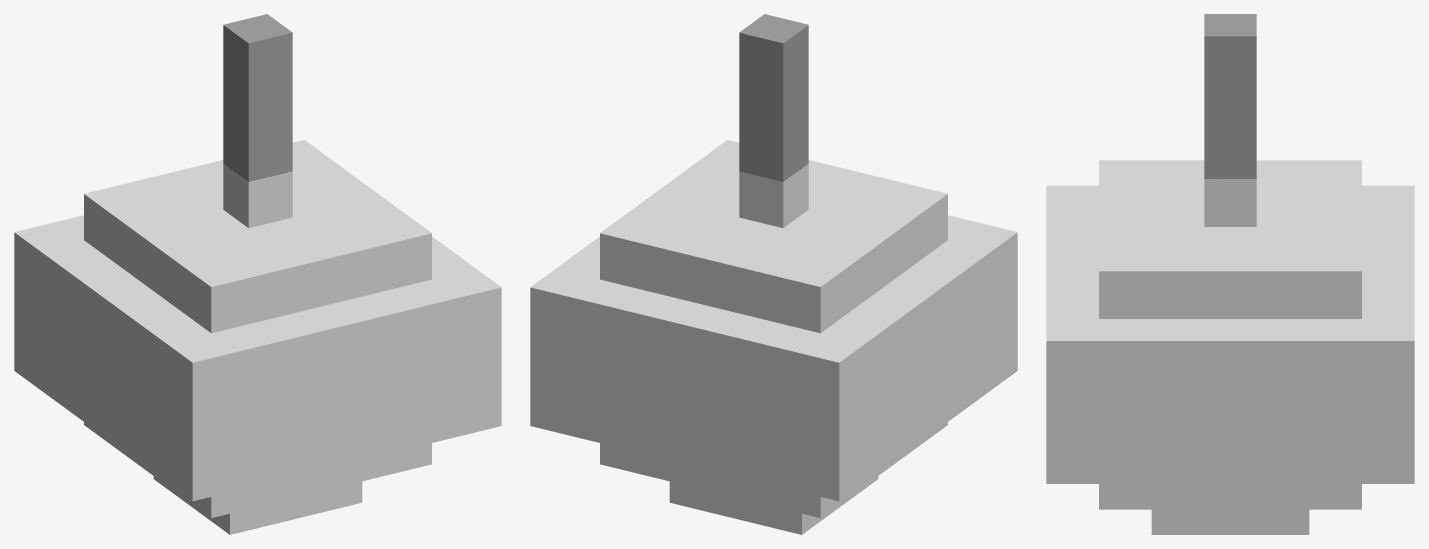
Rendered from alcohol lamp_47.obj.
The picture shows the model from 3 angles, left to right: view 1: azimuth 30°, elevation 25°; view 2: azimuth 150°, elevation 25°; view 3: azimuth 270°, elevation 25°; orthographic projection. The views are drawn at different scales.
Parts seen in each view (by area): view 1: alcohol_lamp_47; view 2: alcohol_lamp_47; view 3: alcohol_lamp_47.
Boxes of the visible parts, box(x1,y1,x2,y2) form: alcohol_lamp_47: box(14, 14, 501, 534); alcohol_lamp_47: box(530, 14, 1017, 534); alcohol_lamp_47: box(1046, 14, 1414, 534).
Bounding box in the file's own units: 0.7 × 1 × 0.7.
1 material, 1 textured.
